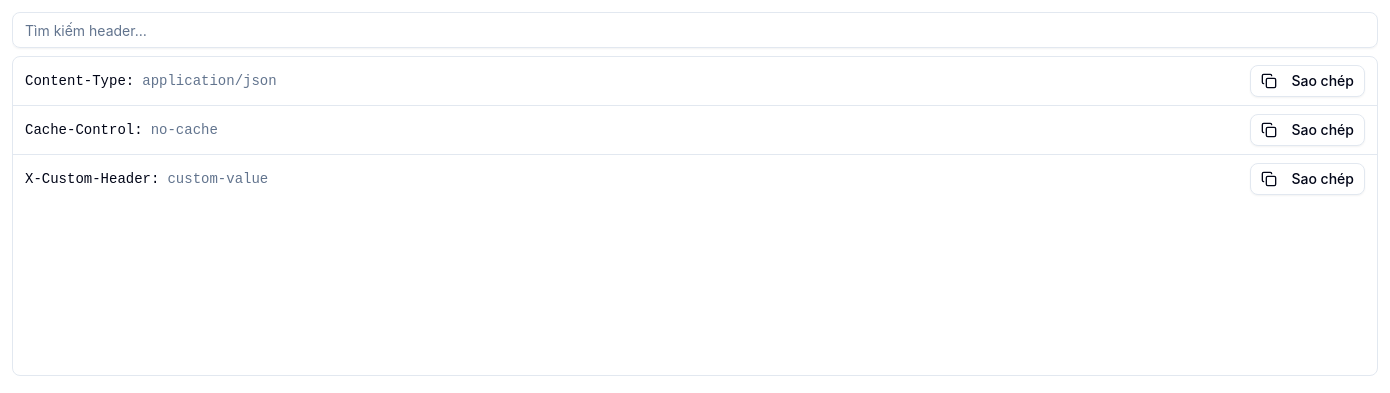
Test: HeaderList › copies a header value to the clipboard from its row button
Click the button "Sao chép" in the row of "application/json".
click(1308, 81)  # box [1250, 65, 1365, 97]
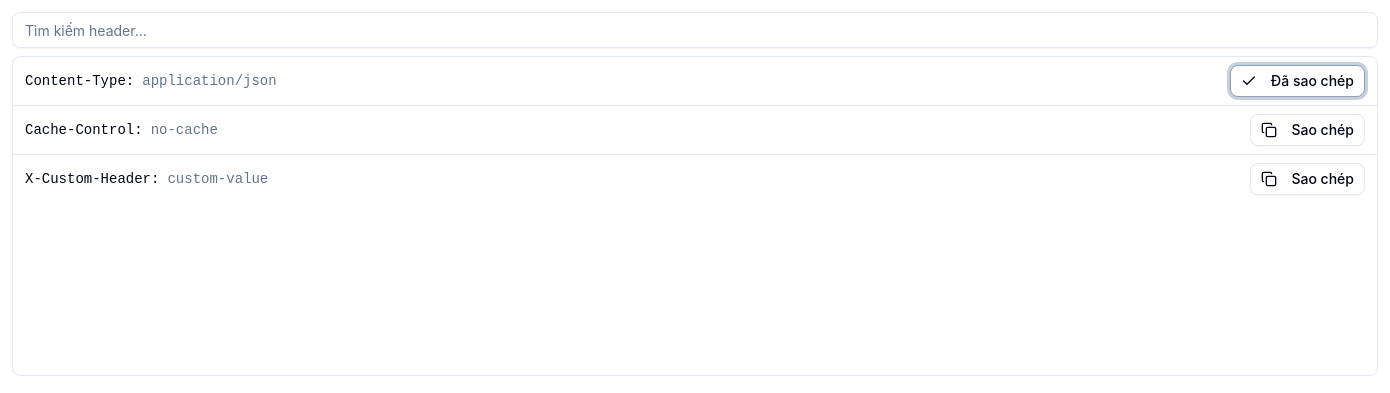
Result: the button "Đã sao chép" is shown at [1230, 65, 1365, 97]
